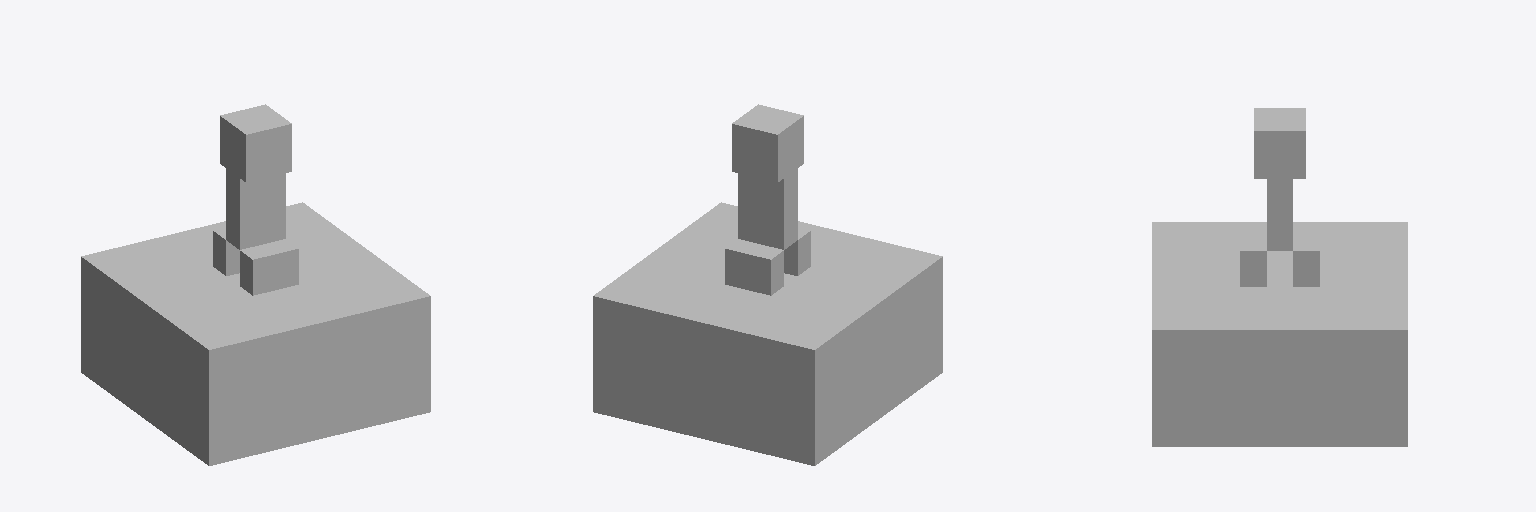
File: Creeper.obj
The picture shows the model from 3 angles: view 1: azimuth 30°, elevation 25°; view 2: azimuth 150°, elevation 25°; view 3: azimuth 270°, elevation 25°; orthographic projection.
Parts seen in each view (by area): view 1: Cube, Cube.002; view 2: Cube, Cube.002; view 3: Cube, Cube.002.
Boxes of the visible parts, x1=… form: Cube: x1=81, y1=202, x2=430, y2=465; Cube.002: x1=213, y1=104, x2=298, y2=295; Cube: x1=593, y1=202, x2=942, y2=465; Cube.002: x1=725, y1=104, x2=810, y2=295; Cube: x1=1152, y1=222, x2=1407, y2=446; Cube.002: x1=1240, y1=108, x2=1319, y2=286.
Bounding box in the file's own units: 320 × 376 × 320.